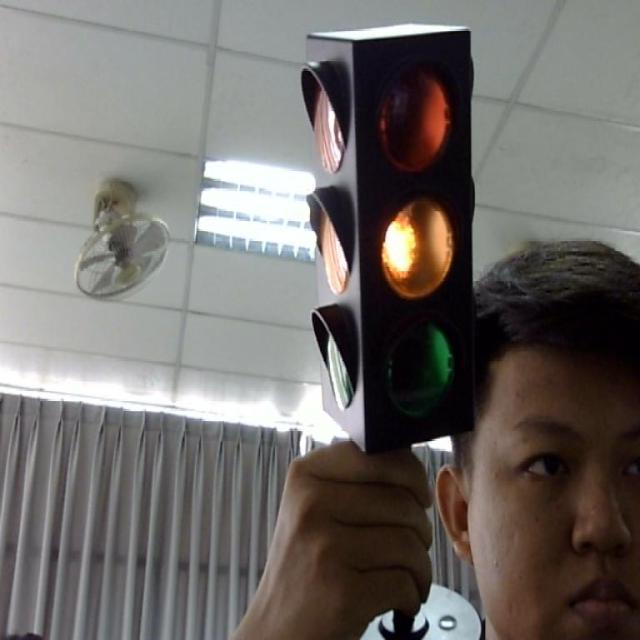yellow_light: (299, 22, 470, 449)
